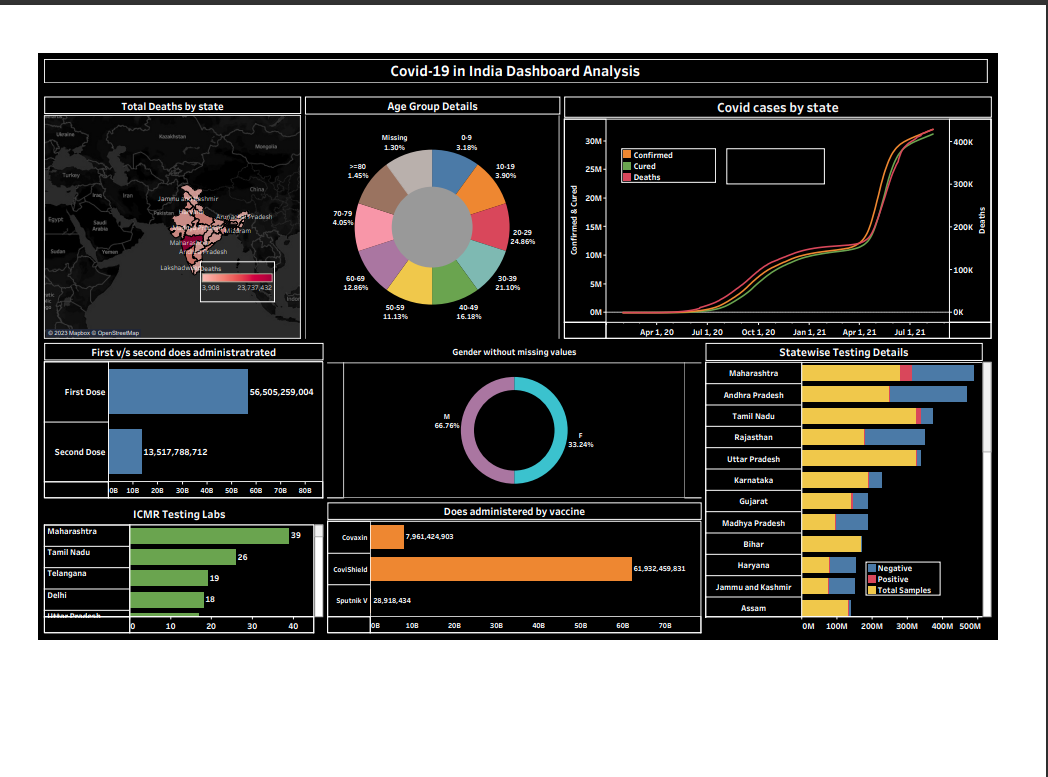

What the dashboard file says about the page in this screenshot:
{"tool":"tableau","page":{"name":"Dashboard 1","canvas":[1800,1100],"ordinal":0},"visuals":[{"type":"worksheet","title":"Title","mark":"Automatic","box":[8,8,1784,70]},{"type":"worksheet","title":"Total Deaths by state","mark":"Automatic","box":[8,78,489,462]},{"type":"worksheet","title":"Age Group Details","mark":"Pie","rows":["Calculation_368732242873126915","Calculation_368732242873024513"],"box":[497,78,486,462]},{"type":"worksheet","title":"Covid cases by state","mark":"Automatic","rows":["Deaths"],"cols":["Date"],"box":[983,78,809,462]},{"type":"legend","title":"Covid cases by state","param":"[federated.07odx171nod6na13fldzw0ufd4ji].[:Measure Names]","box":[1094,179,177,64]},{"type":"filter","title":"Covid cases by state","param":"[federated.07odx171nod6na13fldzw0ufd4ji].[none:State/UnionTerritory:nk]","box":[1291,179,184,67]},{"type":"legend","title":"Total Deaths by state","param":"[federated.07odx171nod6na13fldzw0ufd4ji].[sum:Deaths:qk]","box":[304,391,140,76]},{"type":"worksheet","title":"First v/s second does administratrated","mark":"Automatic","box":[8,540,531,298.5]},{"type":"worksheet","title":"Gender without missing values","mark":"Pie","rows":["Calculation_368732242877628421","Calculation_368732242877702151"],"box":[539,540,709,298.5]},{"type":"worksheet","title":"Statewise Testing Details","mark":"Automatic","rows":["State"],"box":[1248,540,544,552]},{"type":"worksheet","title":"ICMR Testing Labs","mark":"Automatic","rows":["state"],"cols":["lab"],"box":[8,838.5,531,253.5]},{"type":"worksheet","title":"Does administered by vaccine","mark":"Automatic","box":[539,838.5,709,253.5]},{"type":"legend","title":"Statewise Testing Details","param":"[federated.1ezahrr12mpf9f10deofg05ce7cr].[:Measure Names]","box":[1552,954,140,63]}]}

Visuals, with their boxes on the page's 1800x1100 design canvas (x1, y1, x2, y2). These are canvas units, not pixel positions in the 1048x777 screenshot, which may show the page scaled, cropped or inside an application window:
"Title" worksheet: bbox=[8, 8, 1792, 78]
"Total Deaths by state" worksheet: bbox=[8, 78, 497, 540]
"Age Group Details" worksheet (Pie marks): bbox=[497, 78, 983, 540]
"Covid cases by state" worksheet: bbox=[983, 78, 1792, 540]
"Covid cases by state" legend: bbox=[1094, 179, 1271, 243]
"Covid cases by state" filter: bbox=[1291, 179, 1475, 246]
"Total Deaths by state" legend: bbox=[304, 391, 444, 467]
"First v/s second does administratrated" worksheet: bbox=[8, 540, 539, 838]
"Gender without missing values" worksheet (Pie marks): bbox=[539, 540, 1248, 838]
"Statewise Testing Details" worksheet: bbox=[1248, 540, 1792, 1092]
"ICMR Testing Labs" worksheet: bbox=[8, 838, 539, 1092]
"Does administered by vaccine" worksheet: bbox=[539, 838, 1248, 1092]
"Statewise Testing Details" legend: bbox=[1552, 954, 1692, 1017]
